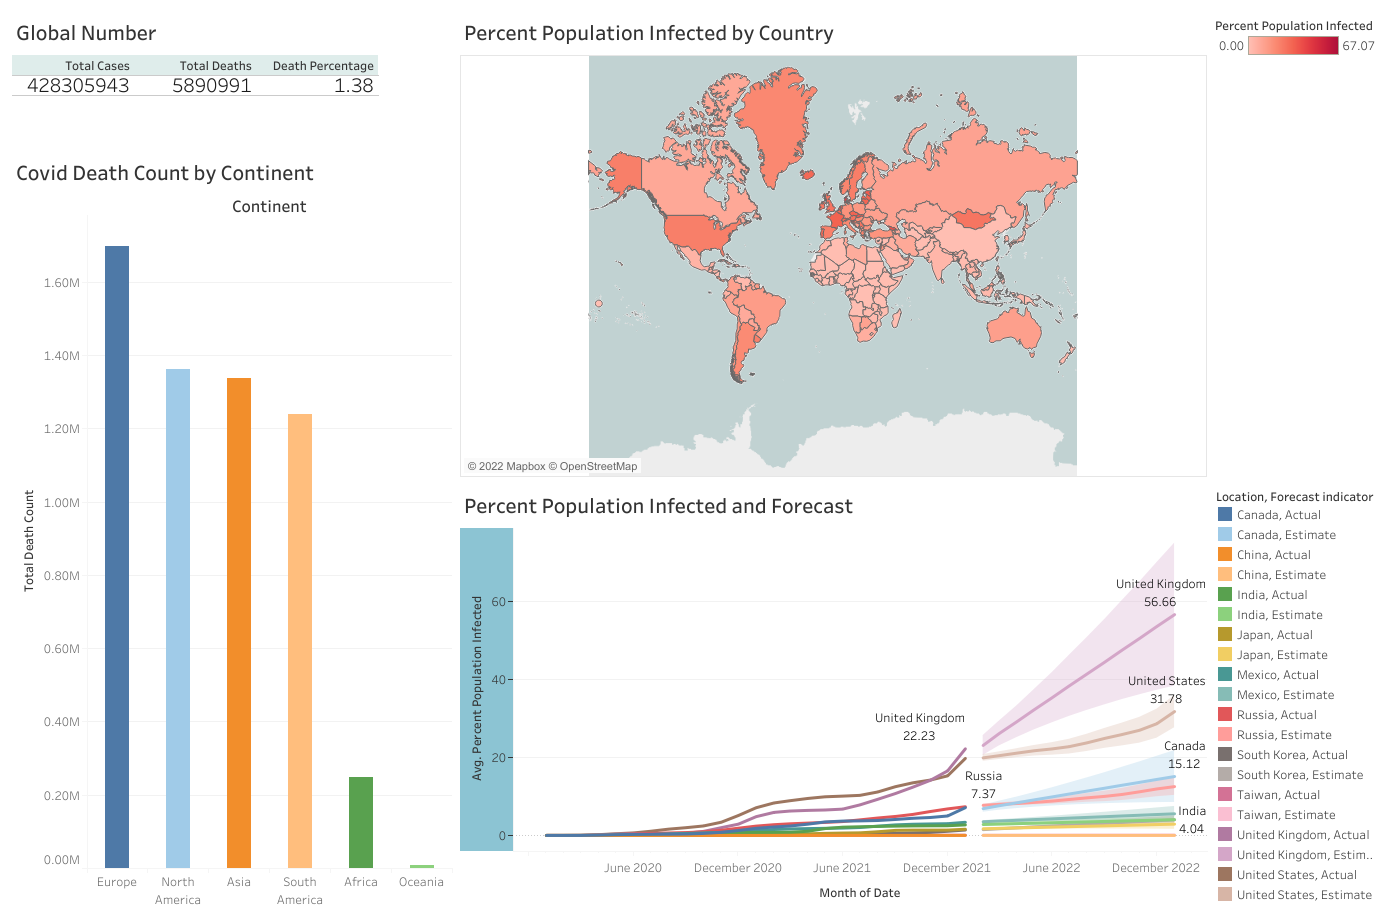

The page's visual inventory and layout, read from the dashboard file:
{"tool":"powerbi","page":{"name":"Page 5","canvas":[1280,720],"ordinal":4},"visuals":[{"type":"tableEx","title":"Total Global Cases vs Death count","fields":{"Values":["Sum(tableau.total_cases)","Sum(tableau.total_deaths)","Sum(tableau.DeathPercentage)"]},"box":[0,0,319.3,111.1],"z":0},{"type":"clusteredColumnChart","title":"Death Count by Continent","fields":{"Category":["Sheet1.location"],"Y":["Sum(Sheet1.TotalDeathCount)"],"Series":["Sheet1.location"]},"box":[0,111.1,319.3,587],"z":1},{"type":"shapeMap","title":"Percent Population Infected by Country","fields":{"Category":["Sheet1 (2).Location"],"Value":["Avg(Sheet1 (2).PercentPopulationInfected)"]},"box":[319.3,7,960.6,404.2],"z":2},{"type":"lineChart","fields":{"Series":["Sheet1 (3).Location"],"Y":["Avg(Sheet1 (3).PercentPopulationInfected)"],"Category":["Sheet1 (3).date.Variation.Date Hierarchy.Year","Sheet1 (3).date.Variation.Date Hierarchy.Quarter","Sheet1 (3).date.Variation.Date Hierarchy.Month","Sheet1 (3).date.Variation.Date Hierarchy.Day"]},"box":[328.1,391.9,951.8,328.1],"z":3}]}

Visuals, with their boxes on the page's 1280x720 design canvas (x1, y1, x2, y2). These are canvas units, not pixel positions in the 1391x919 screenshot, which may show the page scaled, cropped or inside an application window:
"Total Global Cases vs Death count" tableEx: <box>0,0,319,111</box>
"Death Count by Continent" clusteredColumnChart: <box>0,111,319,698</box>
"Percent Population Infected by Country" shapeMap: <box>319,7,1280,411</box>
lineChart - Sheet1 (3).Location x Avg(Sheet1 (3).PercentPopulationInfected): <box>328,392,1280,720</box>
